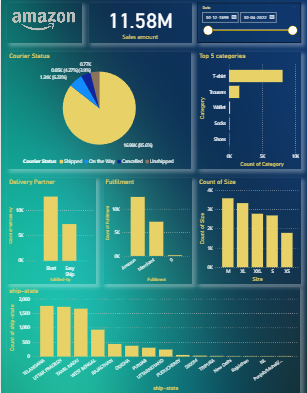

The dashboard page shown, as its layout file describes it:
{"tool":"powerbi","page":{"name":"Page 1","canvas":[816,1056],"ordinal":0},"visuals":[{"type":"image","box":[15.8,8.3,198.3,106.7],"z":0},{"type":"card","fields":{"Values":["Sum(Amazon Sale Report (2).Amount)"]},"box":[231.7,8.3,276.7,106.7],"z":1000},{"type":"slicer","fields":{"Values":["Amazon Sale Report (2).Date"]},"box":[522.5,8.3,276.7,106.7],"z":2000},{"type":"barChart","title":"Top 5 categories","fields":{"Category":["Amazon Sale Report (2).Category"],"Y":["CountNonNull(Amazon Sale Report (2).Category)"]},"box":[522.5,139.2,276.7,312.5],"z":3000},{"type":"pieChart","title":"Courier Status ","fields":{"Category":["Amazon Sale Report (2).Courier Status"],"Y":["CountNonNull(Amazon Sale Report (2).Courier Status)"]},"box":[16.2,138.8,491.2,312.5],"z":4000},{"type":"columnChart","title":"Delivery Partner","fields":{"Category":["Amazon Sale Report (2).fulfilled-by"],"Y":["CountNonNull(Amazon Sale Report (2).fulfilled-by)"]},"box":[17.5,475,236.2,282.5],"z":5000},{"type":"columnChart","title":"Fulfilment","fields":{"Category":["Amazon Sale Report (2).Fulfilment"],"Y":["CountNonNull(Amazon Sale Report (2).Fulfilment)"]},"box":[272.5,475,236.2,282.5],"z":6000},{"type":"columnChart","title":"Count of Size ","fields":{"Y":["CountNonNull(Amazon Sale Report (2).Size)"],"Category":["Amazon Sale Report (2).Size"]},"box":[522.5,475,276.2,282.5],"z":7000},{"type":"clusteredColumnChart","title":"ship-state","fields":{"Category":["Amazon Sale Report (2).ship-state"],"Y":["CountNonNull(Amazon Sale Report (2).ship-state)"]},"box":[17.5,767.5,781.2,283.8],"z":8000}]}

Visuals, with their boxes in screenshot pixels (x1, y1, x2, y2), scaled from the page's 816x1056 canvas onto the 307x393 screenshot:
image: box=[6, 3, 81, 43]
card - Sum(Amazon Sale Report (2).Amount): box=[87, 3, 191, 43]
slicer - Amazon Sale Report (2).Date: box=[197, 3, 301, 43]
"Top 5 categories" barChart: box=[197, 52, 301, 168]
"Courier Status " pieChart: box=[6, 52, 191, 168]
"Delivery Partner" columnChart: box=[7, 177, 95, 282]
"Fulfilment" columnChart: box=[103, 177, 191, 282]
"Count of Size " columnChart: box=[197, 177, 300, 282]
"ship-state" clusteredColumnChart: box=[7, 286, 300, 391]
